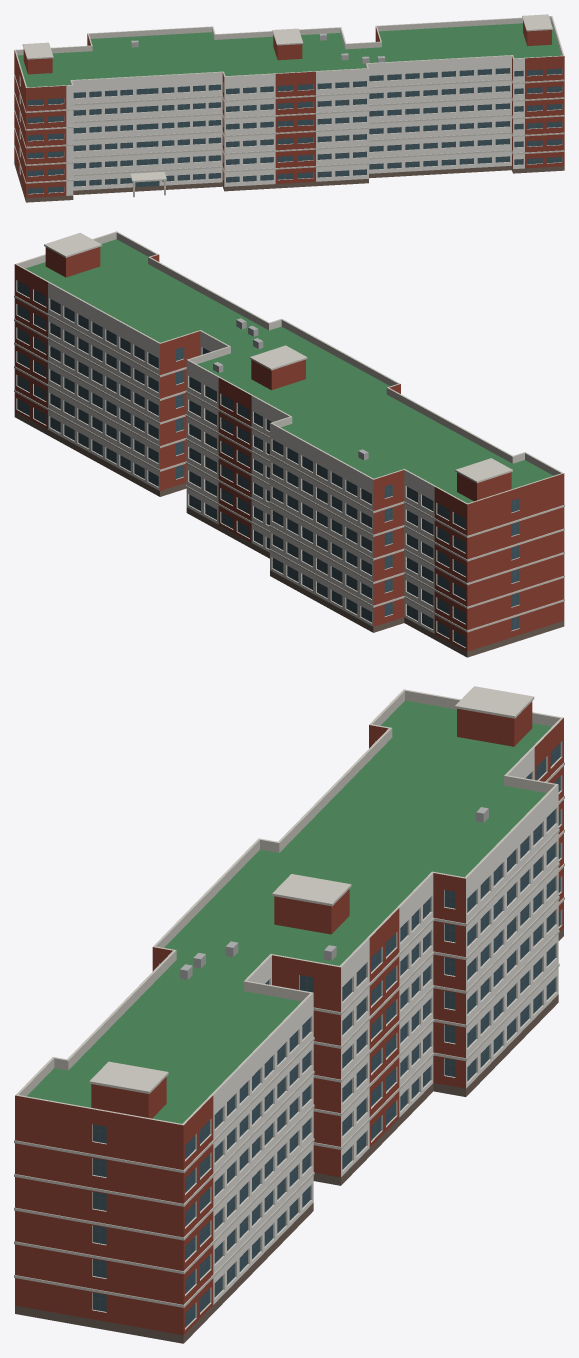
The picture shows the model from 3 angles, top to bottom: view 1: azimuth 30°, elevation 25°; view 2: azimuth 150°, elevation 25°; view 3: azimuth 270°, elevation 25°; orthographic projection. The views are drawn at different scales.
Visible parts, largest first — view 1: wing1__wall-plaster, wing1__roof, wing1__glass, wing1__trim-concrete, wing1__brick, wing1__base-stone, wing1__frame, wing1__canopy-concrete, wing1__equipment; view 2: wing1__brick, wing1__roof, wing1__wall-plaster, wing1__trim-concrete, wing1__glass, wing1__frame, wing1__base-stone; view 3: wing1__brick, wing1__roof, wing1__trim-concrete, wing1__wall-plaster, wing1__glass, wing1__base-stone, wing1__frame, wing1__equipment.
Part boxes in pixels (x1,y1,x2,y2): wing1__wall-plaster: [66, 55, 524, 195]; wing1__roof: [17, 22, 561, 87]; wing1__glass: [28, 68, 562, 193]; wing1__trim-concrete: [14, 14, 564, 194]; wing1__brick: [14, 20, 564, 198]; wing1__base-stone: [14, 160, 564, 202]; wing1__frame: [28, 68, 561, 193]; wing1__canopy-concrete: [130, 171, 166, 197]; wing1__equipment: [131, 33, 385, 63]; wing1__brick: [14, 247, 564, 651]; wing1__roof: [25, 239, 553, 503]; wing1__wall-plaster: [48, 282, 434, 633]; wing1__trim-concrete: [14, 231, 564, 647]; wing1__glass: [17, 280, 519, 646]; wing1__frame: [17, 283, 519, 643]; wing1__base-stone: [14, 411, 564, 657]; wing1__brick: [15, 701, 563, 1335]; wing1__roof: [27, 700, 551, 1123]; wing1__trim-concrete: [14, 686, 564, 1329]; wing1__wall-plaster: [213, 748, 558, 1304]; wing1__glass: [93, 743, 560, 1327]; wing1__base-stone: [15, 928, 563, 1343]; wing1__frame: [93, 746, 560, 1323]; wing1__equipment: [180, 807, 488, 979].
Bounding box in the file's own units: 100 × 25.65 × 53.37.
